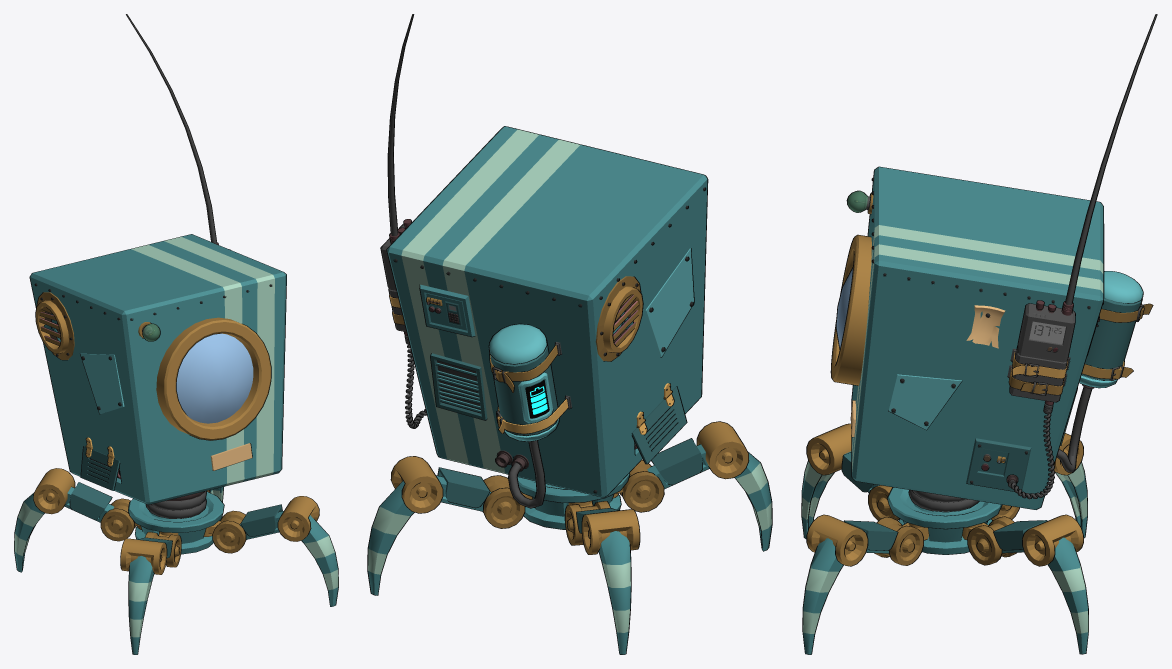
Rendered from audience.glb.
3 views of the same model, side by side, from view 1: azimuth 30°, elevation 25°; view 2: azimuth 150°, elevation 25°; view 3: azimuth 270°, elevation 25° (orthographic). The views are drawn at different scales.
Visible parts, largest first — view 1: Object041_Material #1601_0, Object041_steel_02_02_0, Object041_Material #1602_0, Object041_Material #1627_0, Object040_Material #1573_0, Object041_steel_02_03_0, Object041_Material #1628_0, Object041_Material #1651_0, Object041_Material #1625_0, Object041_Material #5503_0; view 2: Object041_Material #1601_0, Object041_Material #1602_0, Object040_Material #1573_0, Object041_Material #1628_0, Object041_steel_02_02_0, Object041_Material #1625_0, Object041_steel_02_03_0, Object041_Material #1651_0, Object041_steel_02_01_0; view 3: Object041_Material #1601_0, Object041_steel_02_02_0, Object041_Material #1602_0, Object040_Material #1573_0, Object041_Material #1628_0, Object041_steel_02_03_0, Object041_Material #1651_0, Object041_Material #1625_0, Object041_Material #1881_0, Object041_Material #5503_0, Object041_Material #1882_0, Object041_Material #1627_0.
Boxes of the visible parts, x1,y1,x2,y2 form: Object041_Material #1601_0: [14, 234, 338, 654]; Object041_steel_02_02_0: [33, 300, 319, 574]; Object041_Material #1602_0: [14, 237, 338, 637]; Object041_Material #1627_0: [176, 333, 253, 423]; Object040_Material #1573_0: [14, 14, 338, 654]; Object041_steel_02_03_0: [37, 292, 245, 567]; Object041_Material #1628_0: [51, 327, 282, 557]; Object041_Material #1651_0: [126, 14, 216, 518]; Object041_Material #1625_0: [80, 353, 124, 414]; Object041_Material #5503_0: [210, 443, 252, 470]; Object041_Material #1601_0: [368, 126, 771, 654]; Object041_Material #1602_0: [368, 129, 771, 632]; Object040_Material #1573_0: [367, 14, 772, 654]; Object041_Material #1628_0: [430, 301, 702, 532]; Object041_steel_02_02_0: [391, 286, 748, 554]; Object041_Material #1625_0: [489, 248, 693, 441]; Object041_steel_02_03_0: [426, 276, 671, 545]; Object041_Material #1651_0: [388, 14, 635, 507]; Object041_steel_02_01_0: [389, 295, 673, 434]; Object041_Material #1601_0: [802, 167, 1103, 654]; Object041_steel_02_02_0: [807, 235, 1142, 565]; Object041_Material #1602_0: [802, 225, 1103, 633]; Object040_Material #1573_0: [801, 14, 1157, 654]; Object041_Material #1628_0: [842, 298, 1141, 550]; Object041_steel_02_03_0: [868, 193, 1152, 565]; Object041_Material #1651_0: [909, 14, 1156, 511]; Object041_Material #1625_0: [888, 271, 1142, 429]; Object041_Material #1881_0: [866, 197, 1075, 463]; Object041_Material #5503_0: [851, 305, 1005, 436]; Object041_Material #1882_0: [1029, 321, 1065, 344]; Object041_Material #1627_0: [836, 268, 852, 347].
Bounding box in the file's own units: 39.84 × 92.3 × 49.33.
